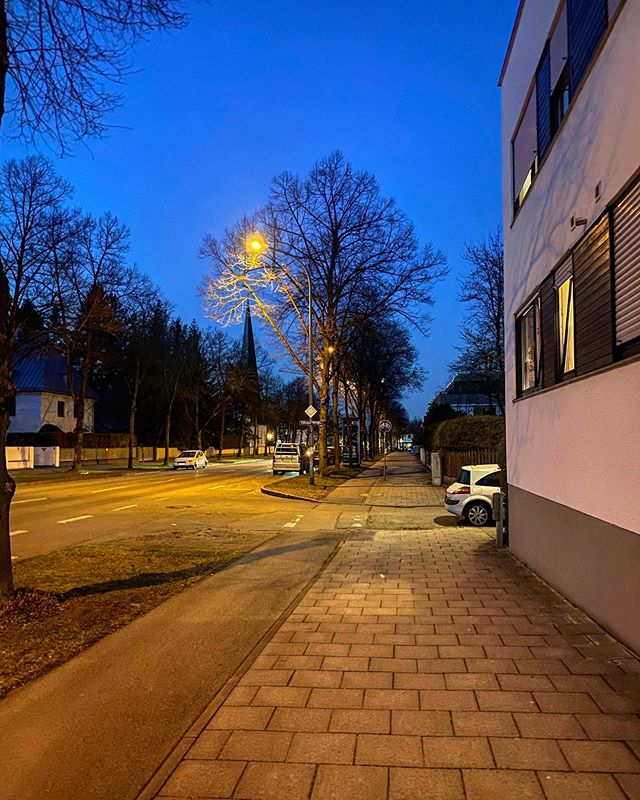building: (499, 1, 640, 761)
car: (437, 452, 506, 531), (167, 444, 209, 475), (265, 442, 307, 473)
sky: (104, 1, 504, 215)
street: (1, 457, 292, 788)
tree: (194, 144, 453, 494)
